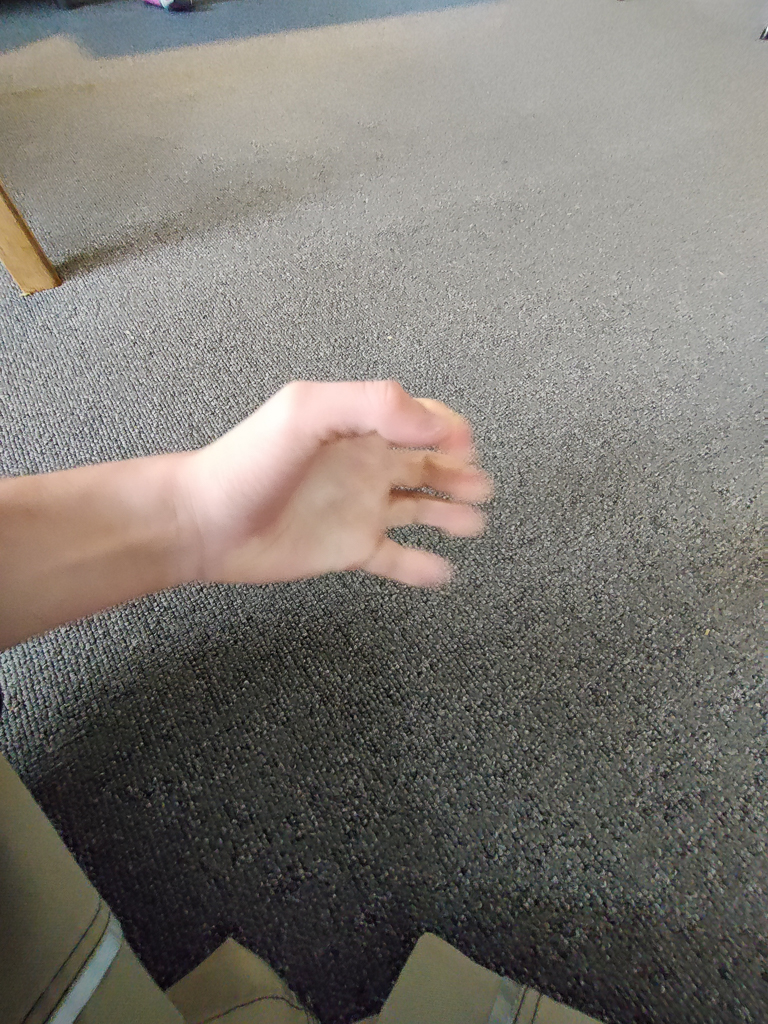Humanoid: (0, 356, 619, 1024)
